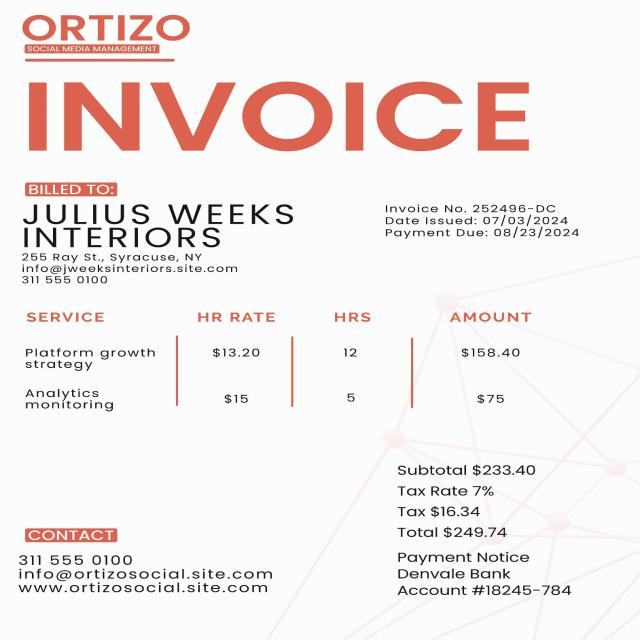paragraph: (14, 74, 548, 163), (14, 176, 308, 290), (3, 521, 284, 596), (376, 456, 545, 542), (381, 549, 579, 605), (11, 7, 195, 63), (378, 198, 590, 242)
table: (18, 306, 550, 419)
